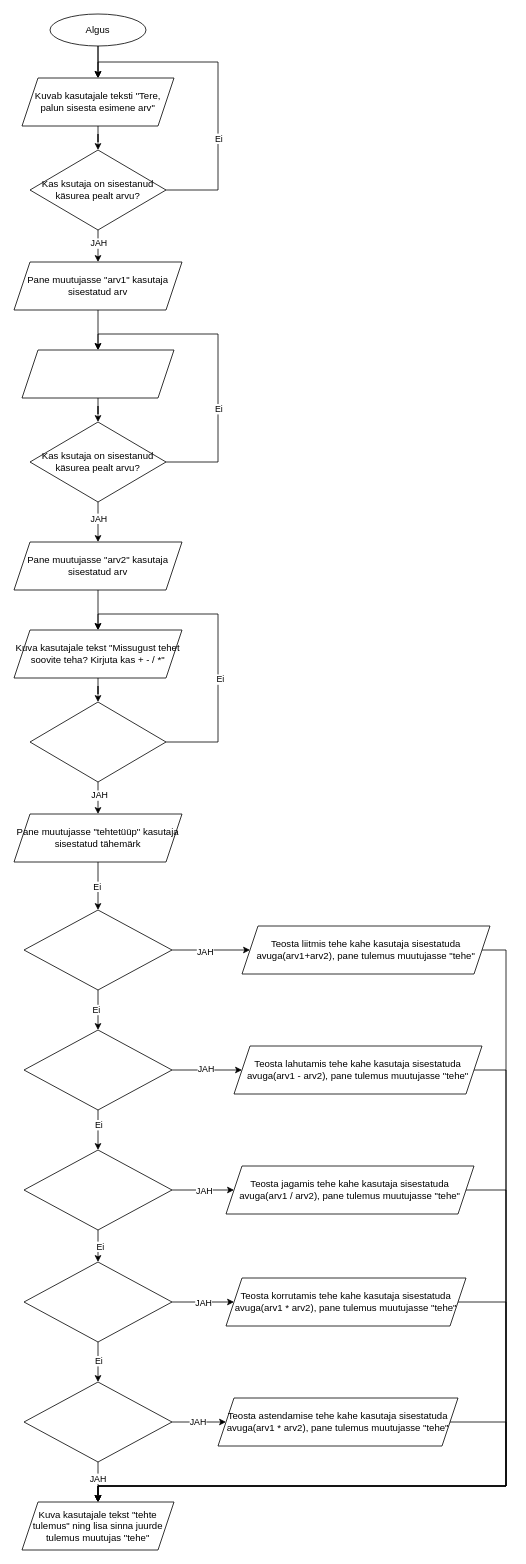
The diagram is 526 pixels wide and 1564 high, and some of its shapes have lost their labels. The shapes that lost their labels are listed below. From the top down, each one's centre as x and y in pixels, then its label:
(x=97, y=373): Kuvab kasutajale teksti "Palun sisesta teine arv"
(x=97, y=741): Kas ksutaja on sisestanud käsurea pealt tähemärgi?
(x=97, y=949): Kas muutujas "tehtetüüp" olev tähemärk on "+" ?
(x=97, y=1069): Kas muutujas "tehtetüüp" olev tähemärk on "-" ?
(x=97, y=1189): Kas muutujas "tehtetüüp" olev tähemärk on "/" ?
(x=97, y=1301): Kas muutujas "tehtetüüp" olev tähemärk on "*" ?
(x=97, y=1421): Kas muutujas "tehtetüüp" olev tähemärk on "^" ?
